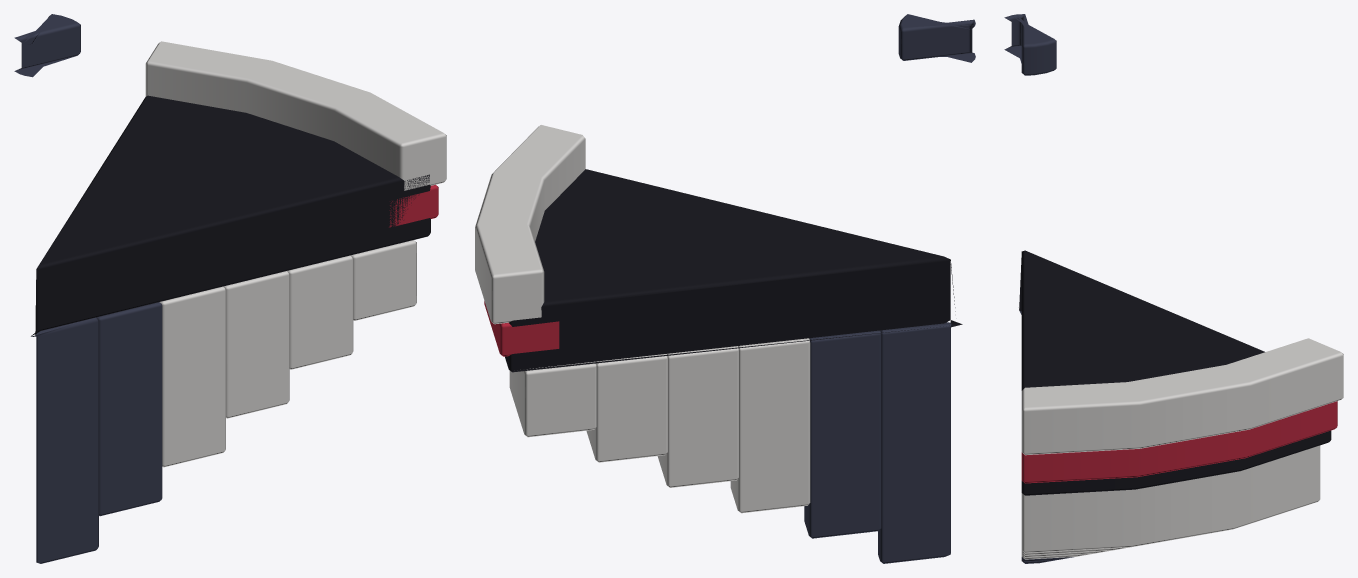
File: canopy.corner45.deck.cut.glb
3 renders of one model, left to right at view 1: azimuth 30°, elevation 25°; view 2: azimuth 150°, elevation 25°; view 3: azimuth 270°, elevation 25°, orthographic. The views are drawn at different scales.
Visible parts, largest first — view 1: canopy.corner45.deck.cut; view 2: canopy.corner45.deck.cut; view 3: canopy.corner45.deck.cut.
Boxes of the visible parts, x1,y1,x2,y2 form: canopy.corner45.deck.cut: (14,14,446,563); canopy.corner45.deck.cut: (475,14,975,563); canopy.corner45.deck.cut: (1004,14,1343,563).
Size of the model in its own units: 1.7 by 2 by 1.2.
